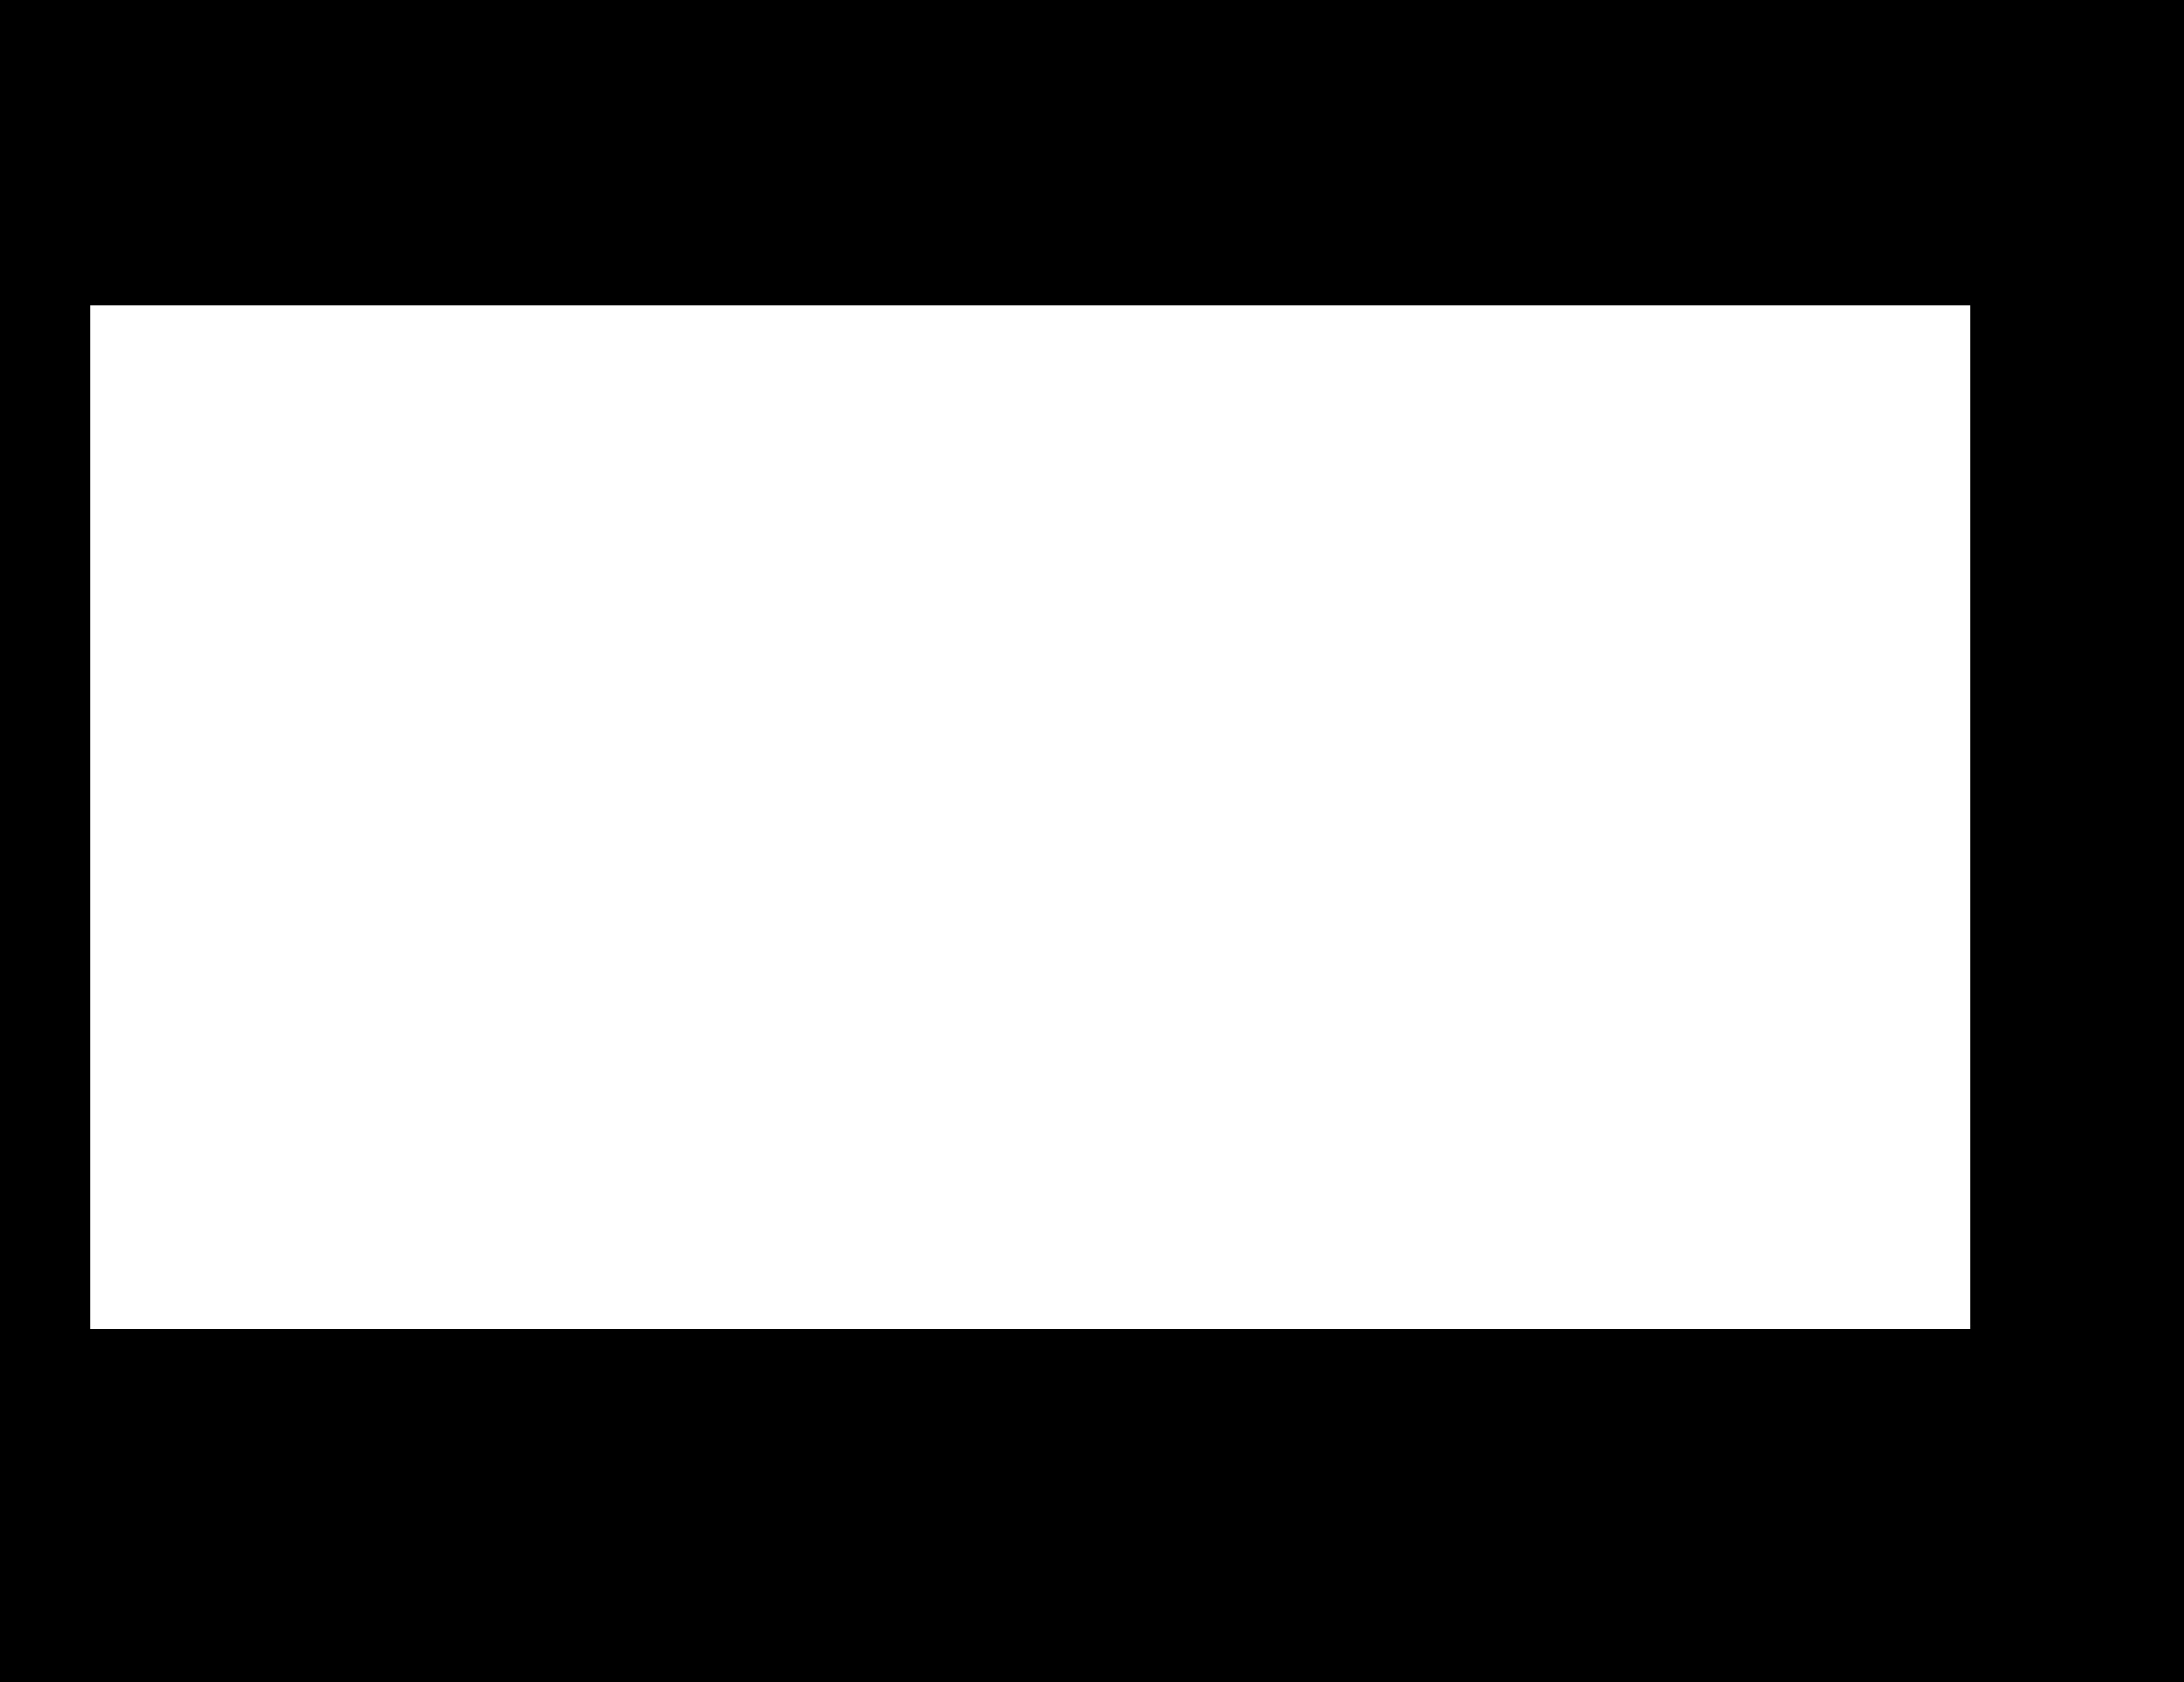table: (90, 306, 1970, 1329)
